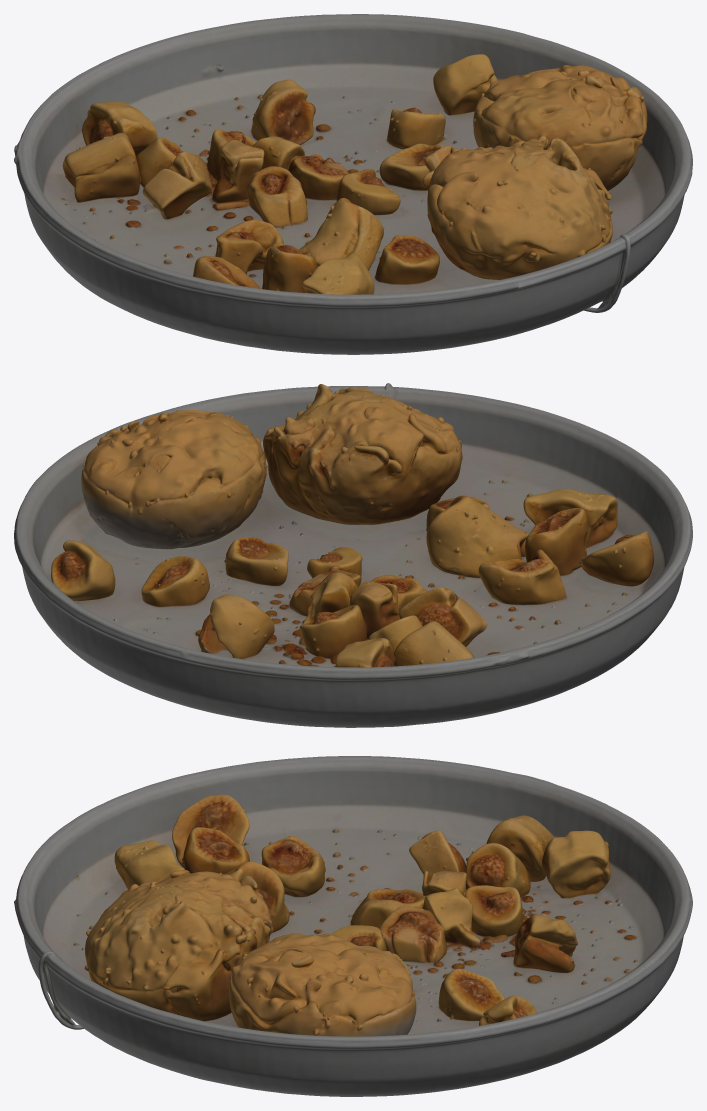
3 views of the same model, one above another, from view 1: azimuth 30°, elevation 25°; view 2: azimuth 150°, elevation 25°; view 3: azimuth 270°, elevation 25° (orthographic).
Parts seen in each view (by area): view 1: tripo_node_64bd509c-c341-40da-8aae-825c3ded8f17; view 2: tripo_node_64bd509c-c341-40da-8aae-825c3ded8f17; view 3: tripo_node_64bd509c-c341-40da-8aae-825c3ded8f17.
Boxes of the visible parts, box(x1,y1,x2,y2) form: tripo_node_64bd509c-c341-40da-8aae-825c3ded8f17: box(14, 14, 692, 354); tripo_node_64bd509c-c341-40da-8aae-825c3ded8f17: box(14, 383, 692, 727); tripo_node_64bd509c-c341-40da-8aae-825c3ded8f17: box(14, 756, 692, 1096).
Bounding box in the file's own units: 0.9965 × 0.2171 × 1.
Materials: 1 (1 with a texture image).
